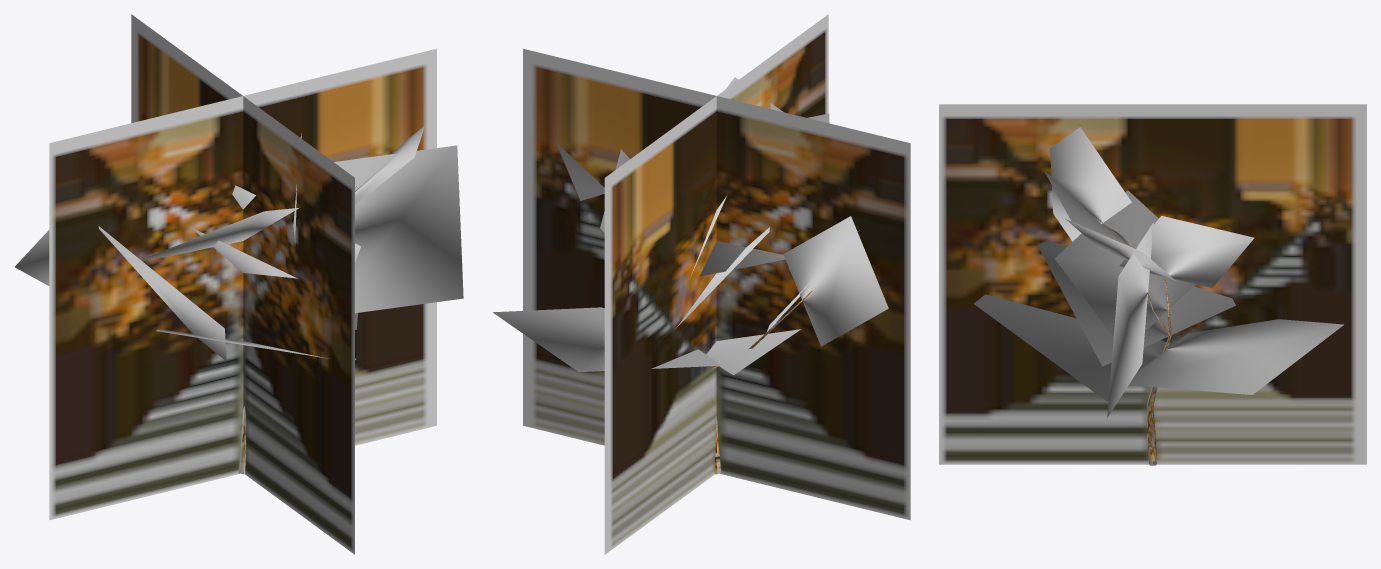
The model's file is Tree-Beech6C.fbx.
3 renders of one model, left to right at view 1: azimuth 30°, elevation 25°; view 2: azimuth 150°, elevation 25°; view 3: azimuth 270°, elevation 25°, orthographic. The views are drawn at different scales.
Visible parts, largest first — view 1: Billboard-BeechC, Tree-Beech6C_LOD0; view 2: Billboard-BeechC, Tree-Beech6C_LOD0; view 3: Billboard-BeechC, Tree-Beech6C_LOD0.
Boxes of the visible parts, box(x1,y1,x2,y2) form: Billboard-BeechC: box(49, 14, 436, 554); Tree-Beech6C_LOD0: box(15, 125, 463, 474); Billboard-BeechC: box(523, 14, 910, 554); Tree-Beech6C_LOD0: box(493, 77, 888, 474); Billboard-BeechC: box(939, 104, 1366, 464); Tree-Beech6C_LOD0: box(974, 127, 1343, 465).
Size of what is drawn, in the model's own units: 929 by 844 by 908.
